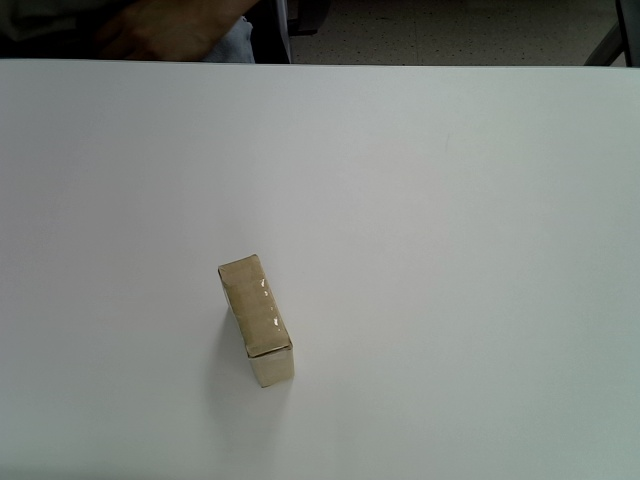normal: (218, 254, 296, 389)
